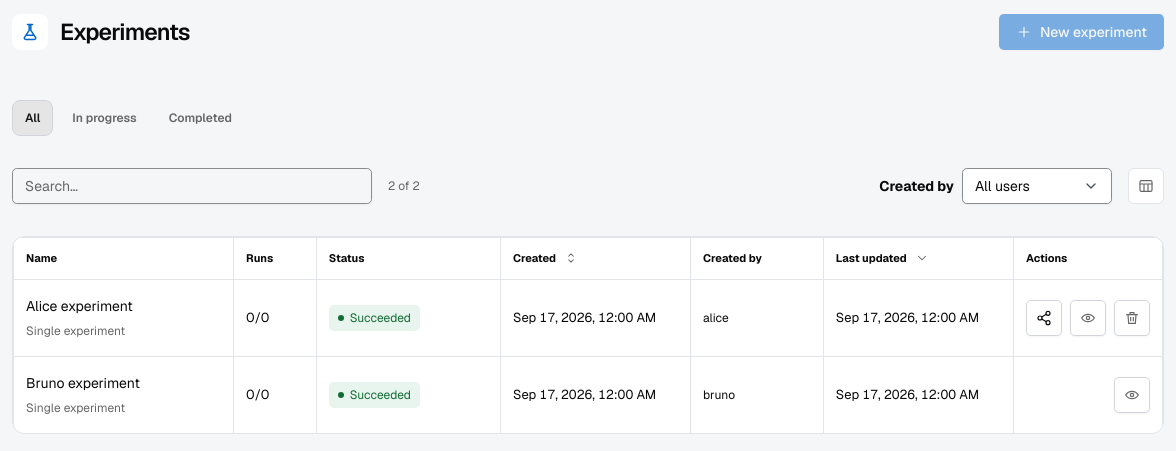
it: experiments history creation › filters experiments by creator
Check: the column heading "Created by" is shown, box [691,238,823,279]
Check: the cell "alice" is shown, box [691,279,823,356]
Select "bruno" in the dropdown named "Filter by user": (1037, 186) [962,168,1112,204]
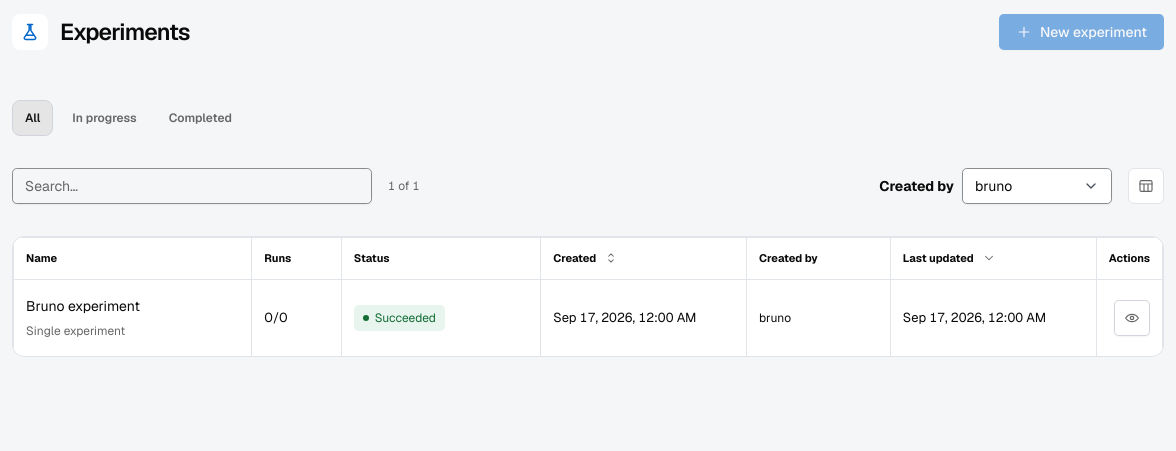
Check: the heading "Bruno experiment" is shown, box [26,296,140,314]
Check: the heading "Alice experiment" is gone
